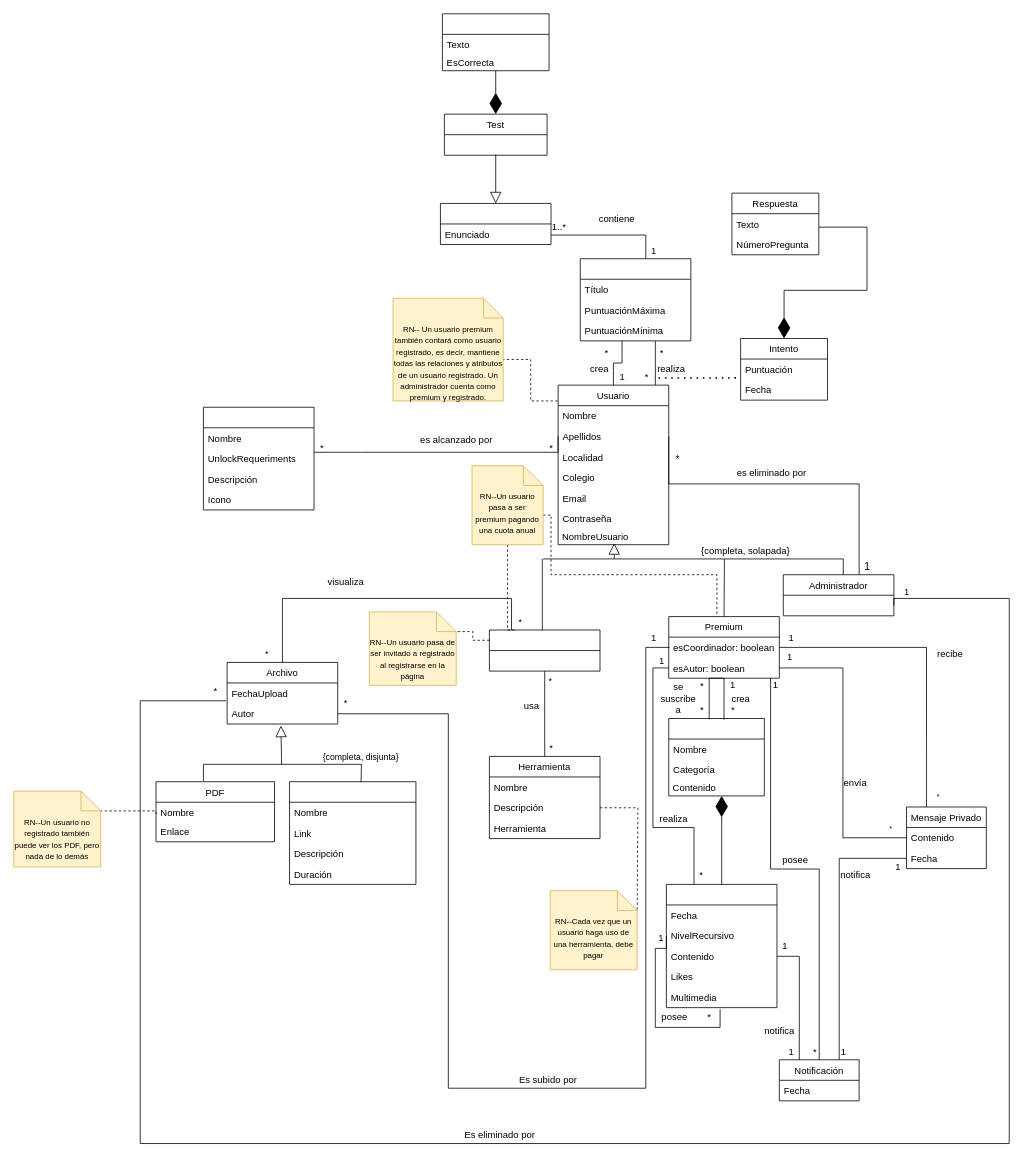
Image size: 1024x1158. Some labels were removed from this diagram. The box of each missing label's shape, as (x1, y1, x2, y2) in pixels:
Comentario: (666, 884, 777, 1008)
Examen: (579, 258, 691, 341)
Hilo: (668, 718, 764, 796)
Logro: (203, 406, 314, 510)
Opción: (442, 13, 549, 71)
Pregunta: (440, 203, 551, 245)
Registrado: (489, 629, 600, 671)
Vídeo: (289, 781, 416, 884)
